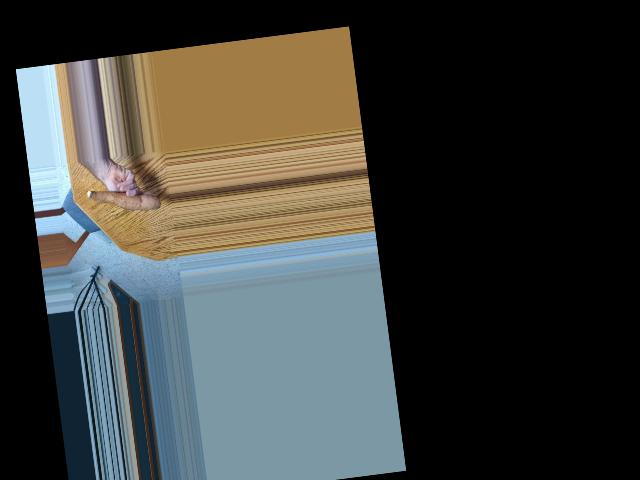sweet_potato: (85, 178, 160, 220)
